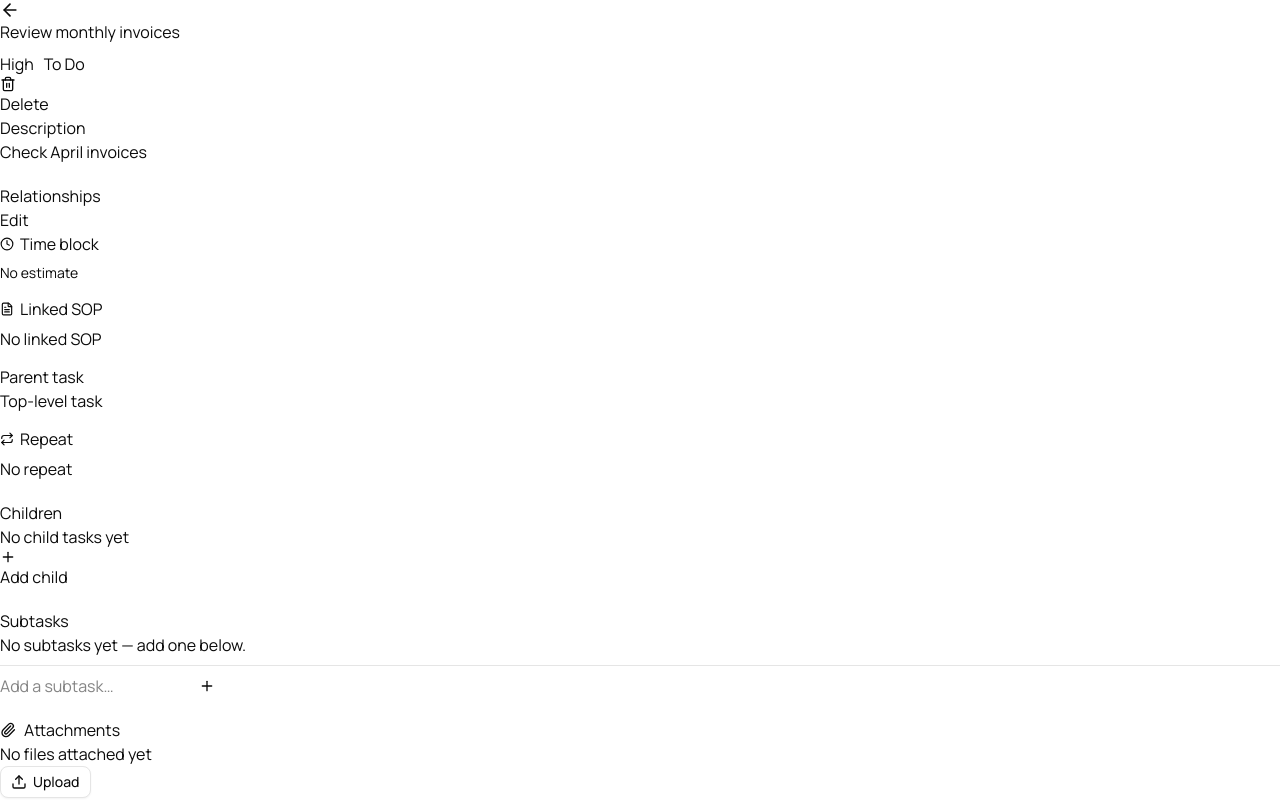
TaskDetailPage — delete-with-confirm › opens the confirm dialog when Delete is clicked (no immediate mutation)
Click the button "Delete". click: point(24, 96)
box: x1=0 y1=76 x2=49 y2=116
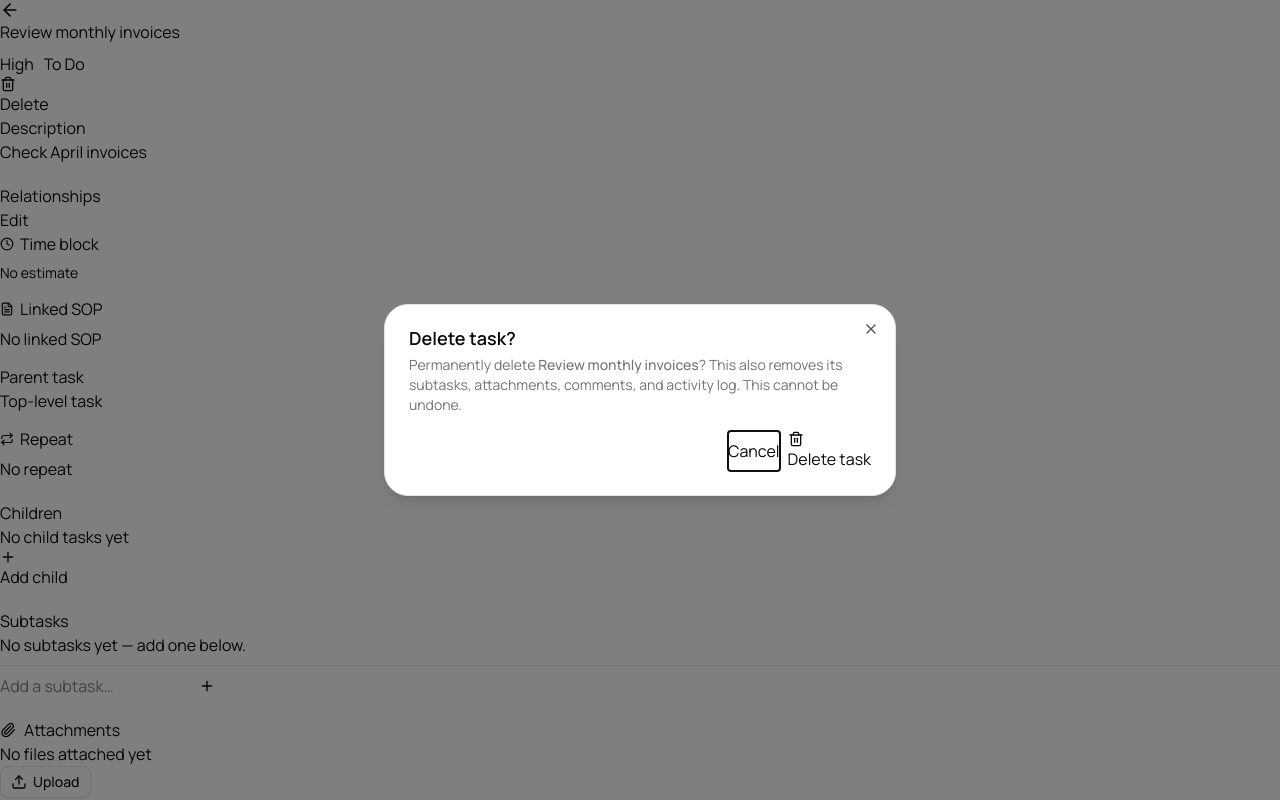
Result: the heading "Delete task?" is shown at x1=409 y1=326 x2=516 y2=350
Result: the text "cannot be undone" is shown at x1=409 y1=355 x2=843 y2=414
